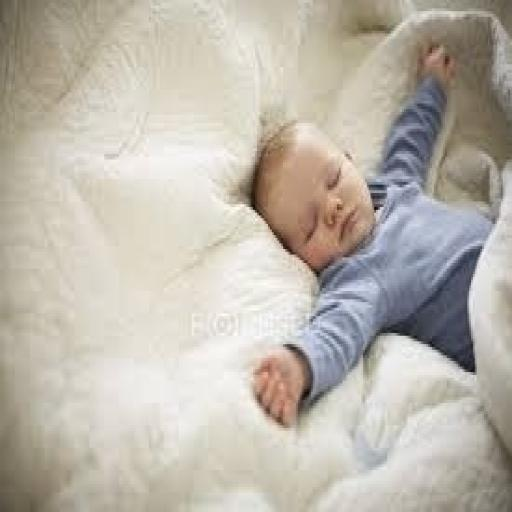sleeping: (246, 39, 499, 431)
